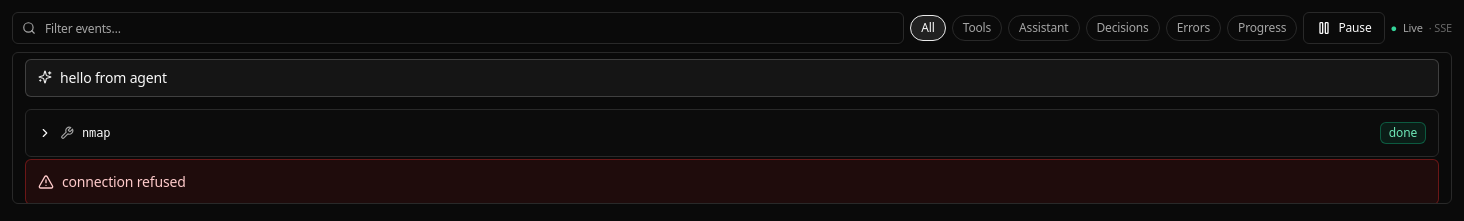
Test case: EventViewer › filters by event type category
Click the button "Errors": click(1193, 28) 1166,15 -> 1221,41
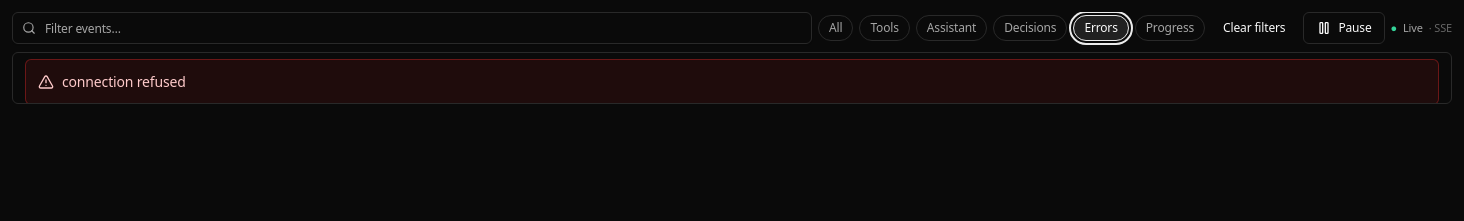
Expected: the text "connection refused" is shown, 62,72 -> 186,92
Expected: the text "hello from agent" is gone
